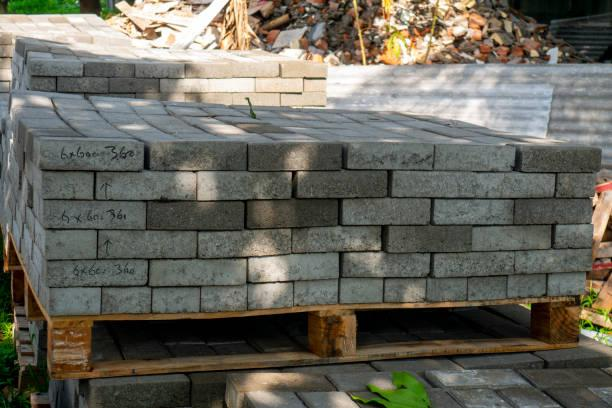Bricks: (349, 144, 514, 172), (389, 175, 553, 198), (41, 138, 146, 172), (149, 138, 248, 172), (97, 169, 199, 200), (45, 261, 152, 289), (45, 199, 148, 228), (104, 235, 199, 266), (197, 173, 295, 202), (243, 198, 341, 227), (337, 199, 437, 226), (198, 232, 294, 260), (145, 262, 248, 286), (252, 143, 343, 169), (515, 142, 602, 169), (147, 206, 248, 229), (247, 253, 336, 279), (512, 198, 592, 226), (299, 173, 387, 198), (385, 224, 466, 251), (436, 198, 515, 224), (294, 230, 379, 253), (344, 256, 432, 278), (473, 227, 553, 251), (434, 255, 512, 278), (42, 168, 94, 201), (519, 250, 593, 273), (187, 61, 277, 79), (49, 284, 95, 314), (102, 288, 155, 314), (428, 271, 472, 302), (387, 275, 431, 305), (204, 283, 246, 311), (158, 80, 256, 92), (343, 279, 389, 304), (44, 238, 94, 261), (153, 283, 196, 308), (25, 122, 83, 140), (296, 280, 339, 304), (250, 282, 294, 304), (553, 225, 594, 248), (545, 272, 591, 292), (557, 174, 600, 195), (197, 91, 270, 103), (471, 276, 509, 298), (116, 79, 174, 93), (510, 274, 547, 295), (283, 92, 333, 107), (33, 61, 86, 75), (64, 82, 123, 94), (89, 64, 138, 76), (255, 81, 301, 93), (286, 63, 329, 75), (143, 61, 181, 74), (29, 78, 62, 87), (306, 79, 323, 87)
